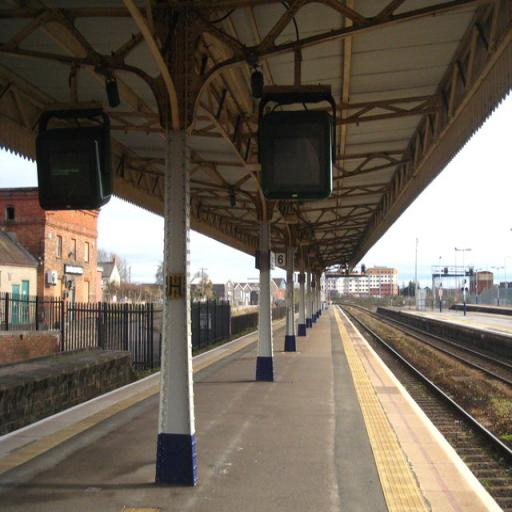platform_edge: (320, 312, 511, 512)
